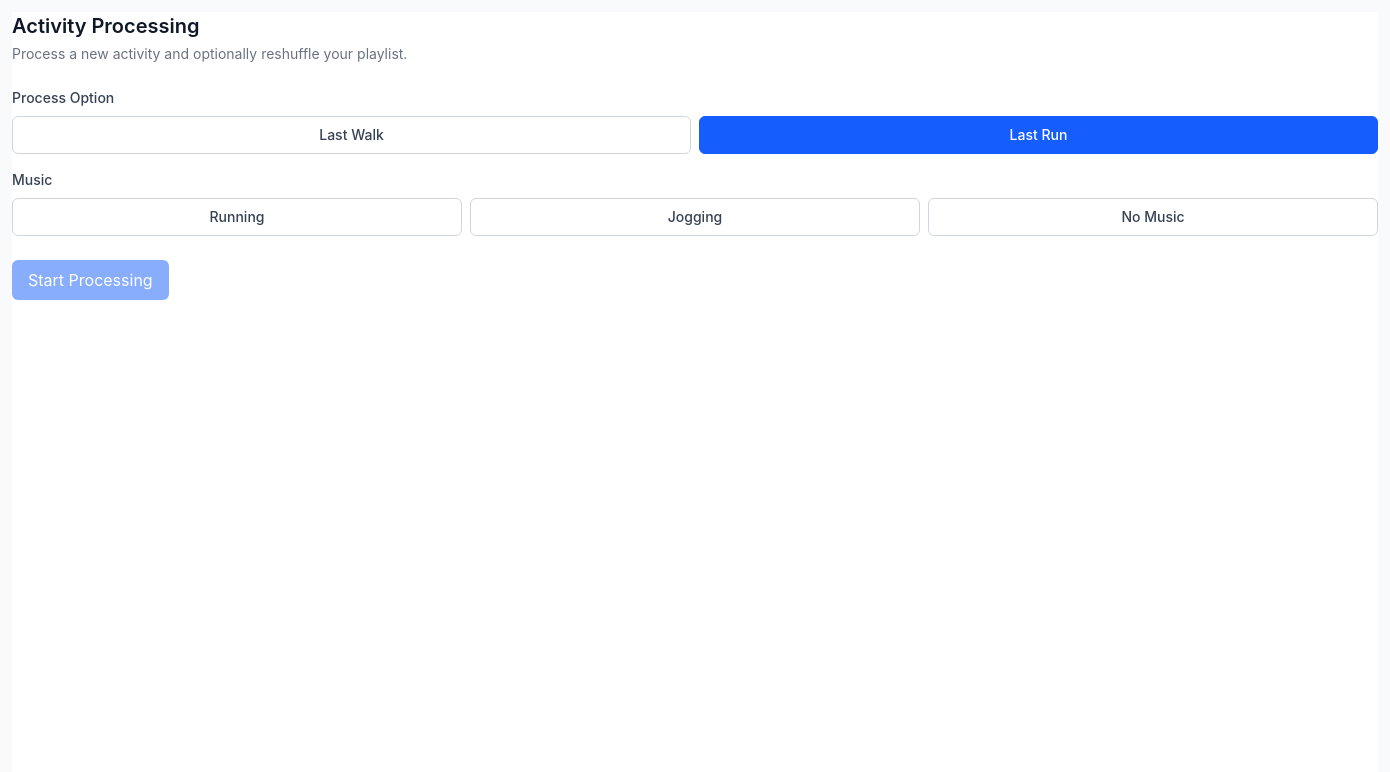
Test: estimate-driven status bars (004-007 T05 / AC-5) › captures distance_m from a mocked resolve_activity terminal event
Click the button "Last Walk".
click(352, 135)  # box [12,116,691,154]
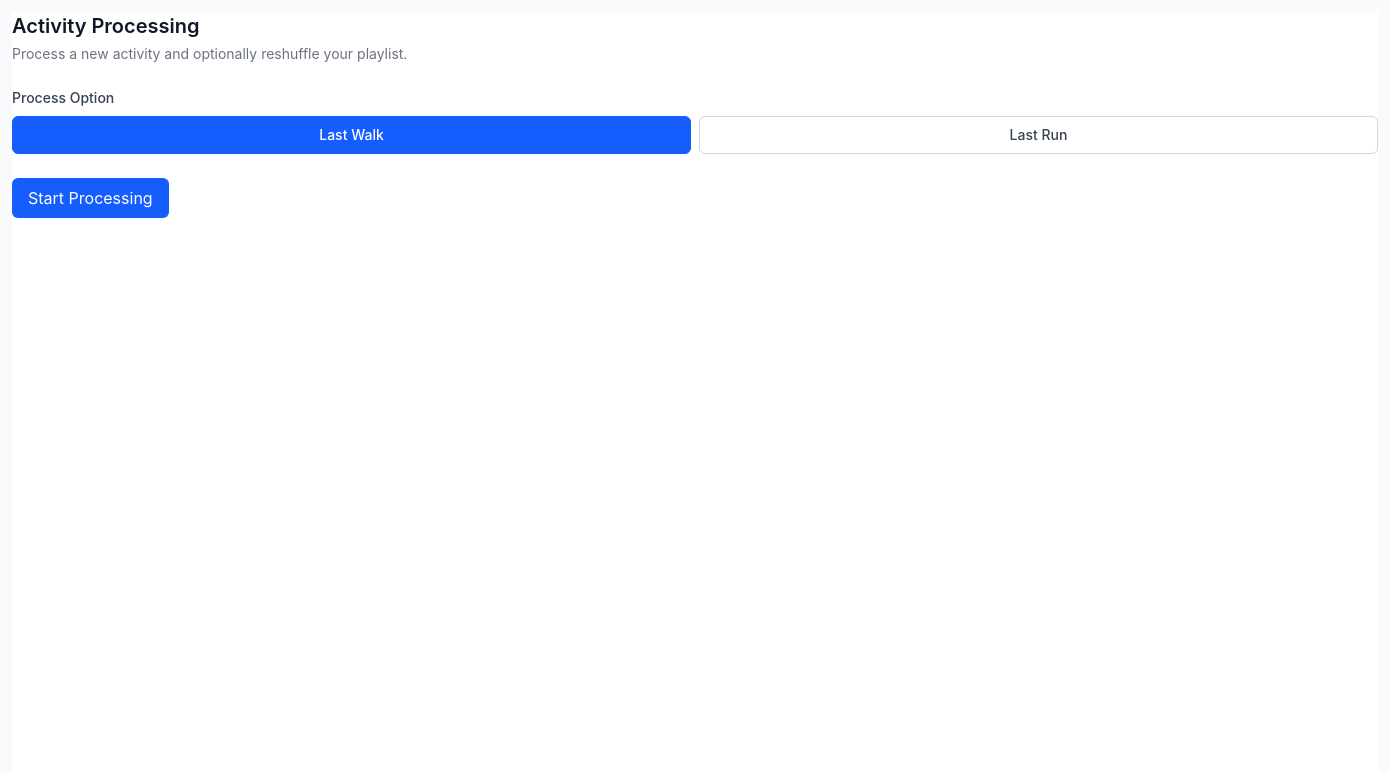
Click the button "Start Processing".
click(90, 198)  # box [12,178,169,218]
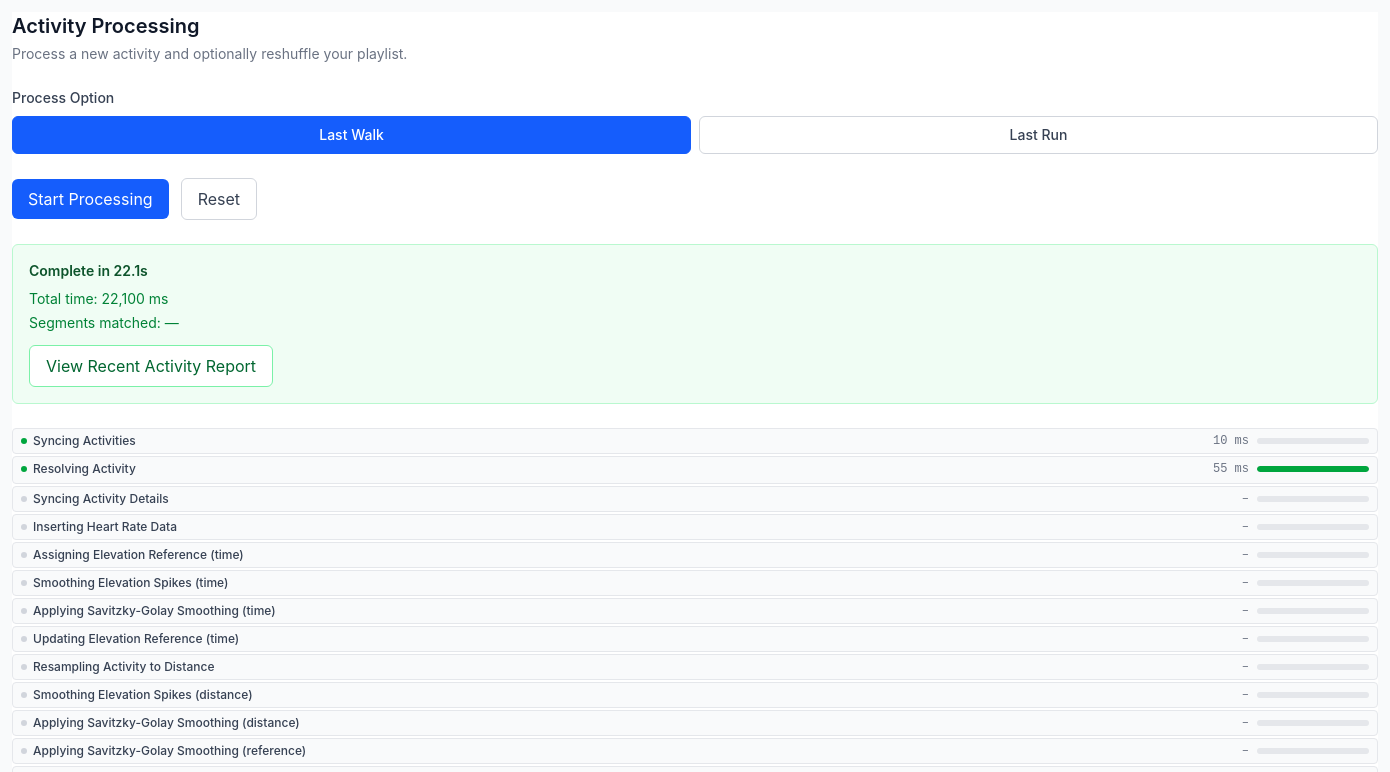
Expected: the text "Complete in 22.1s" is shown, [29,262,148,279]
Expected: the 2nd progress indicator with test id "step-bar" is shown, [1257,466,1369,472]
